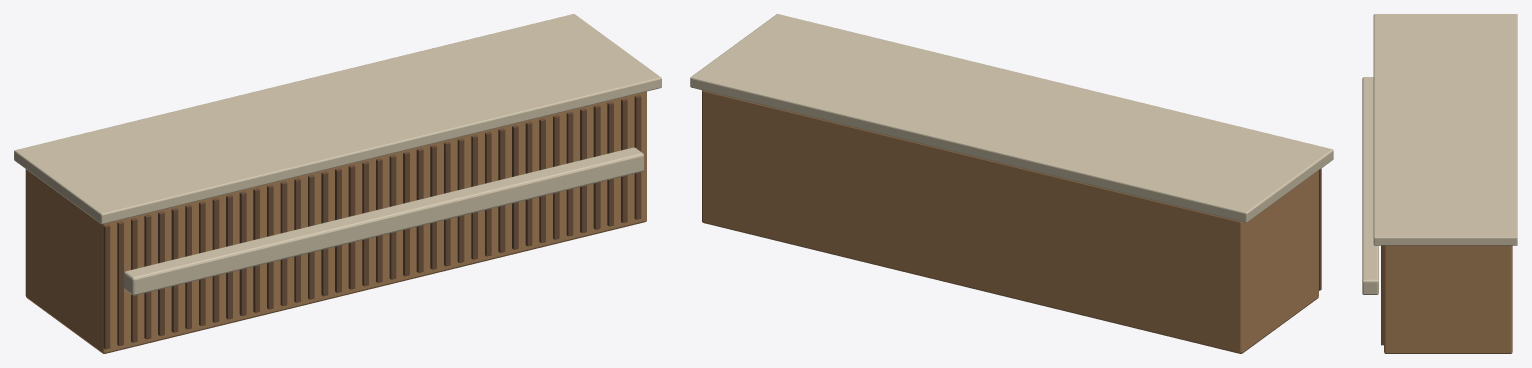
File: best.glb
3 views of the same model, side by side, from view 1: azimuth 30°, elevation 25°; view 2: azimuth 150°, elevation 25°; view 3: azimuth 270°, elevation 25° (orthographic). The views are drawn at different scales.
Parts seen in each view (by area): view 1: starbucksCounter_41, starbucksCounter_0, starbucksCounter_42, starbucksCounter_1, starbucksCounter_2, starbucksCounter_40, starbucksCounter_9, starbucksCounter_6, starbucksCounter_4, starbucksCounter_17, starbucksCounter_19, starbucksCounter_22 (+31 smaller); view 2: starbucksCounter_0, starbucksCounter_41; view 3: starbucksCounter_41, starbucksCounter_0, starbucksCounter_42, starbucksCounter_40.
Part boxes in pixels (box(x1,y1,x2,y2)): starbucksCounter_41: box(14, 14, 661, 224); starbucksCounter_0: box(25, 91, 646, 353); starbucksCounter_42: box(124, 147, 643, 295); starbucksCounter_1: box(103, 224, 110, 349); starbucksCounter_2: box(117, 221, 123, 345); starbucksCounter_40: box(634, 95, 641, 219); starbucksCounter_9: box(212, 198, 219, 322); starbucksCounter_6: box(171, 208, 178, 332); starbucksCounter_4: box(144, 214, 151, 339); starbucksCounter_17: box(321, 171, 328, 296); starbucksCounter_19: box(348, 165, 355, 289); starbucksCounter_22: box(389, 155, 396, 279); starbucksCounter_0: box(702, 90, 1318, 353); starbucksCounter_41: box(690, 14, 1333, 222); starbucksCounter_41: box(1373, 14, 1517, 245); starbucksCounter_0: box(1384, 245, 1512, 353); starbucksCounter_42: box(1362, 77, 1378, 294); starbucksCounter_40: box(1381, 245, 1383, 345).
Bounding box in the file's own units: 4.12 × 1.04 × 1.21.
